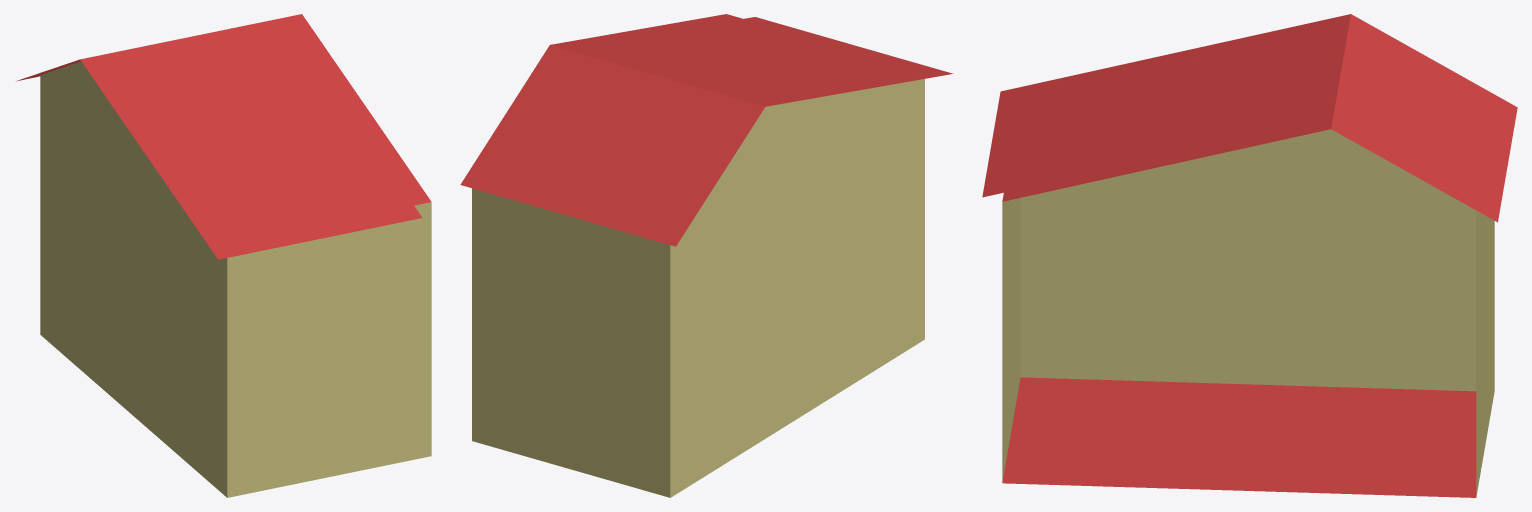
3 renders of one model, left to right at view 1: azimuth 30°, elevation 25°; view 2: azimuth 150°, elevation 25°; view 3: azimuth 270°, elevation 25°, orthographic. The views are drawn at different scales.
Bounding box in the file's own units: 7.16 × 12.36 × 9.28.
